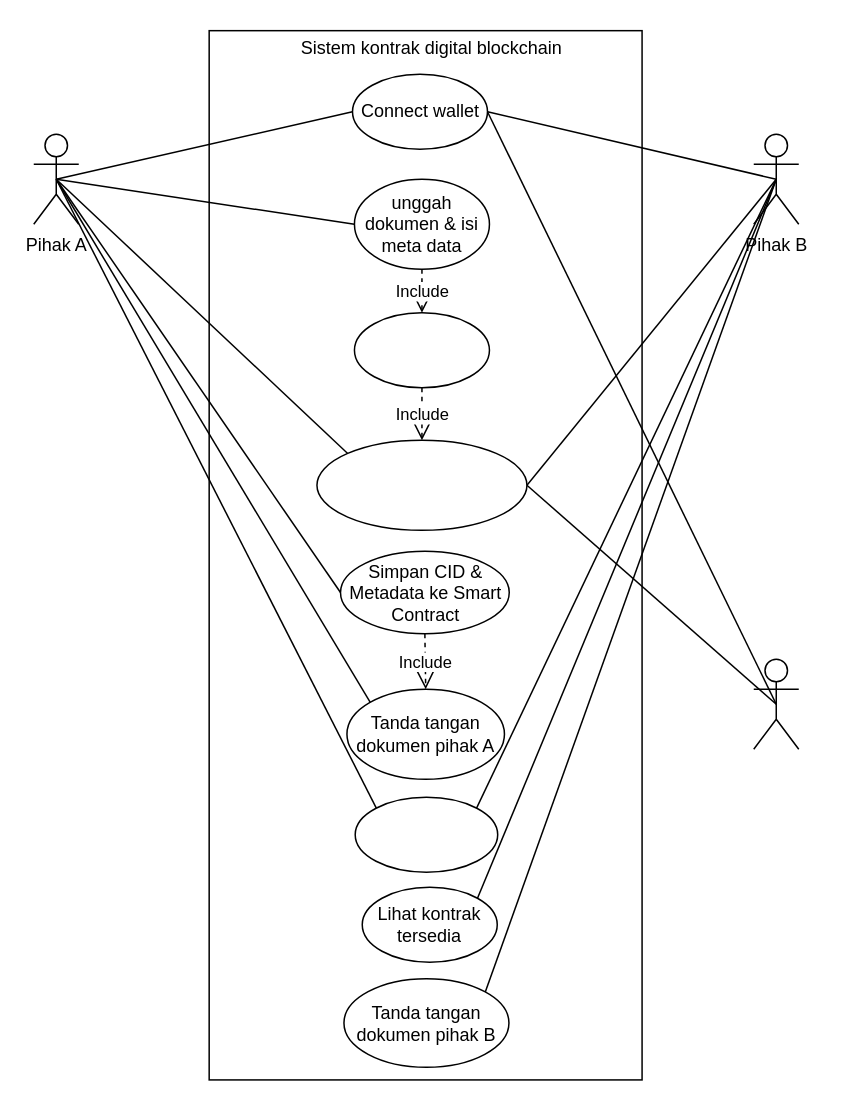
The diagram is 842 pixels wide and 1106 high, and some of its shapes have lost their labels. Here are the shapes that lost their labels. From the top down, the centre of each, then its label:
At point (421, 349): "Hashing via IPFS".
At point (421, 484): "Verifikasi CID di blockchain (Opsional)".
At point (775, 703): "Verifikator".
At point (426, 834): "Riwayat kontrak".
